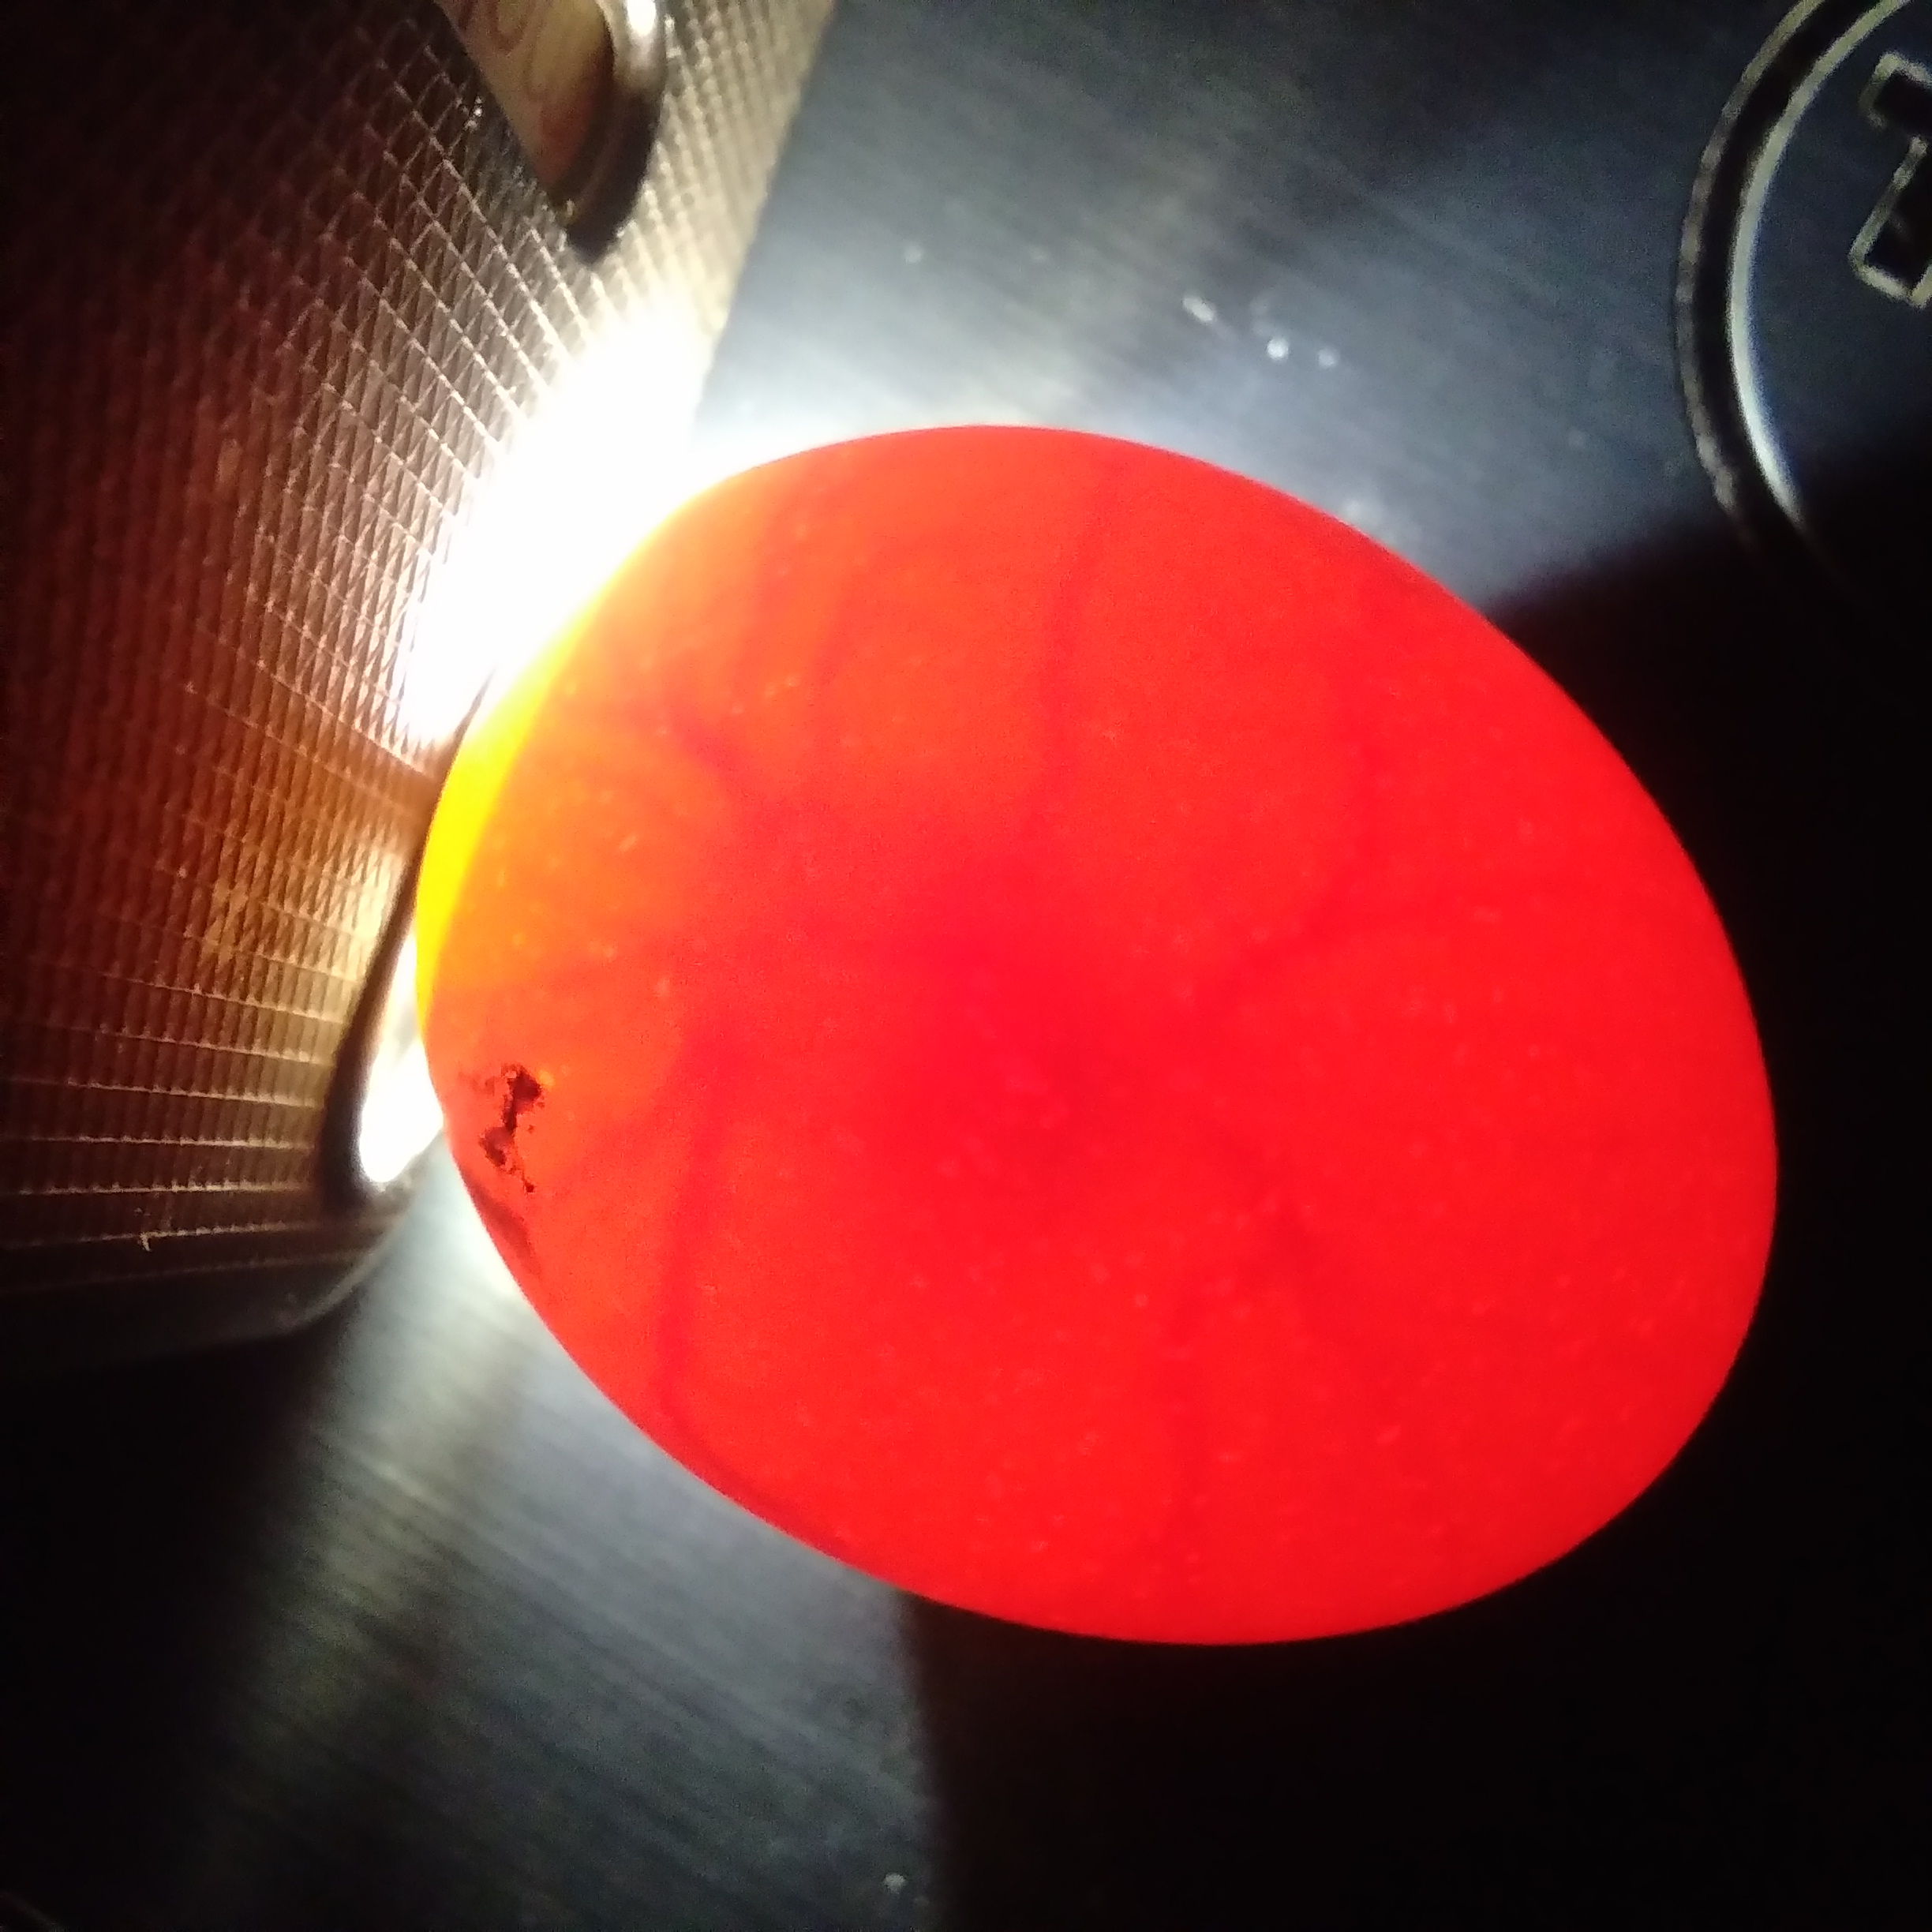bloodcell: (525, 901, 750, 1304), (633, 633, 1044, 770)
